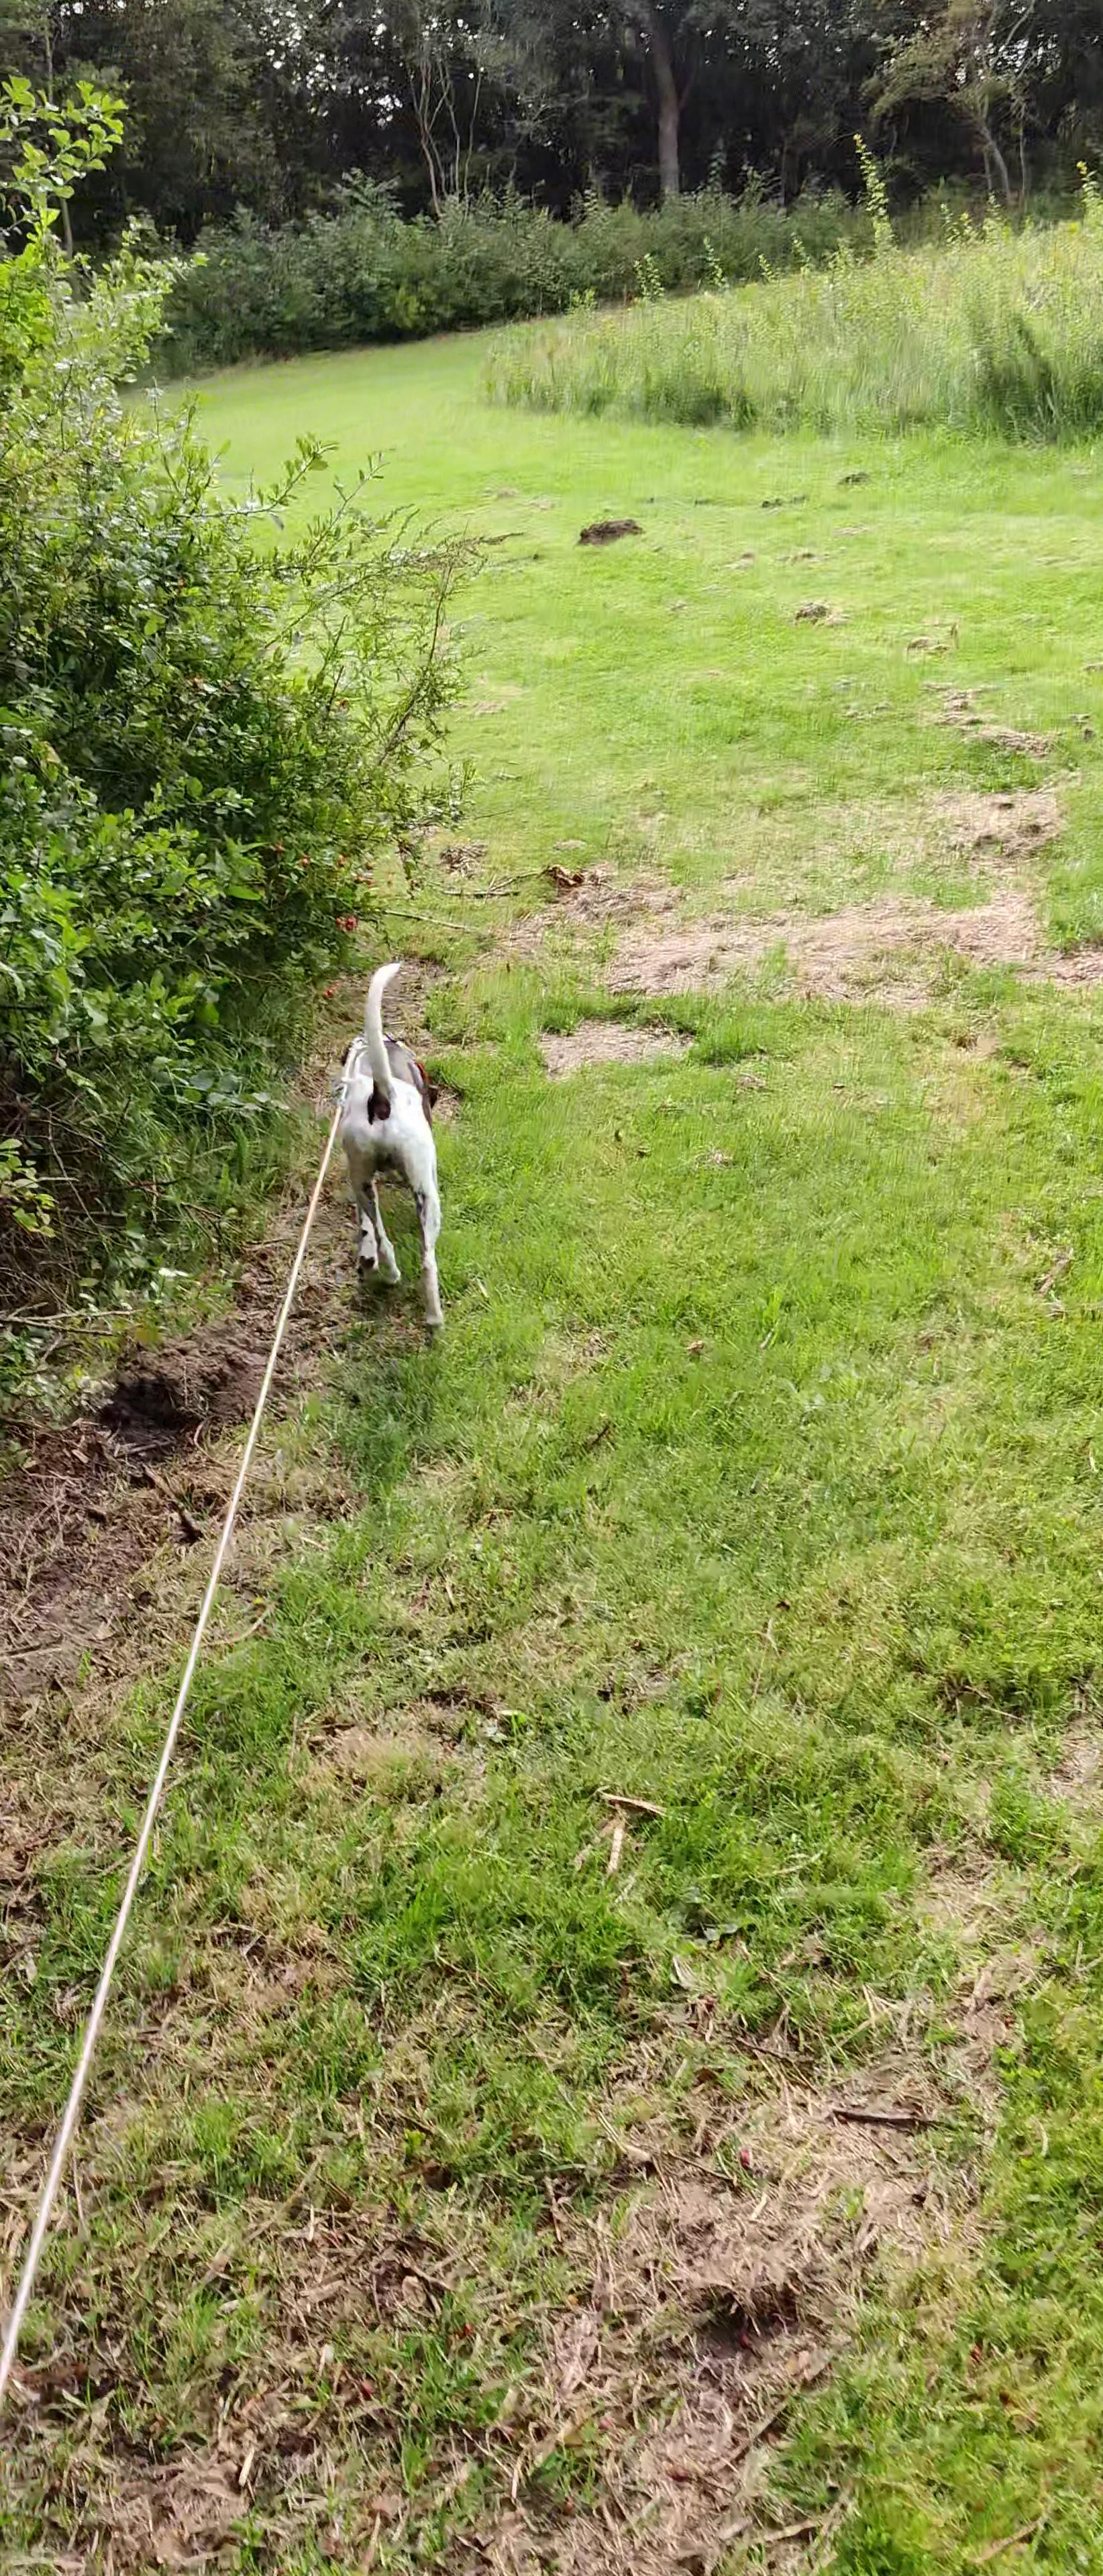Dog: (298, 938, 473, 1347)
